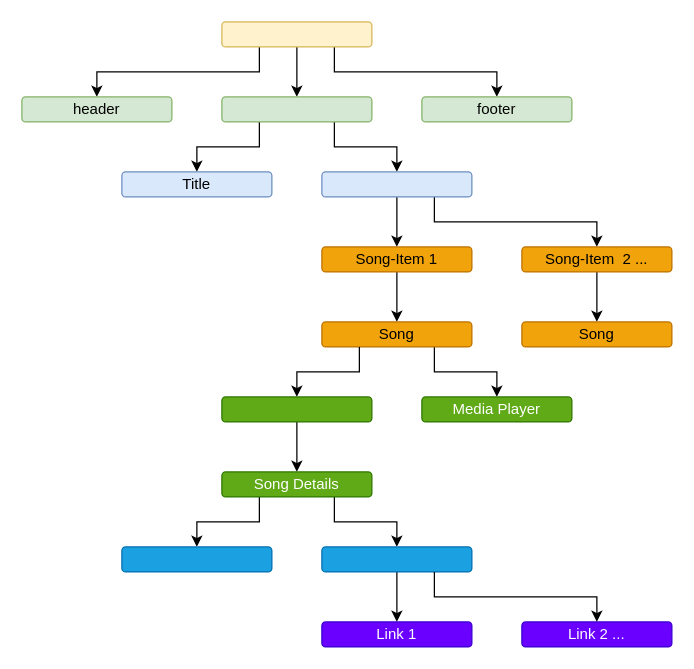
This 694x669 diagram has some shape labels left out. The shapes that lost their labels are listed below. From the top down, each one's centre as x and y in pixels, then its label:
At [296,34]: "Page".
At [296,109]: "main".
At [396,184]: "Song List".
At [296,409]: "Song Details Box".
At [196,559]: "Song Name".
At [396,559]: "Song Link List".
